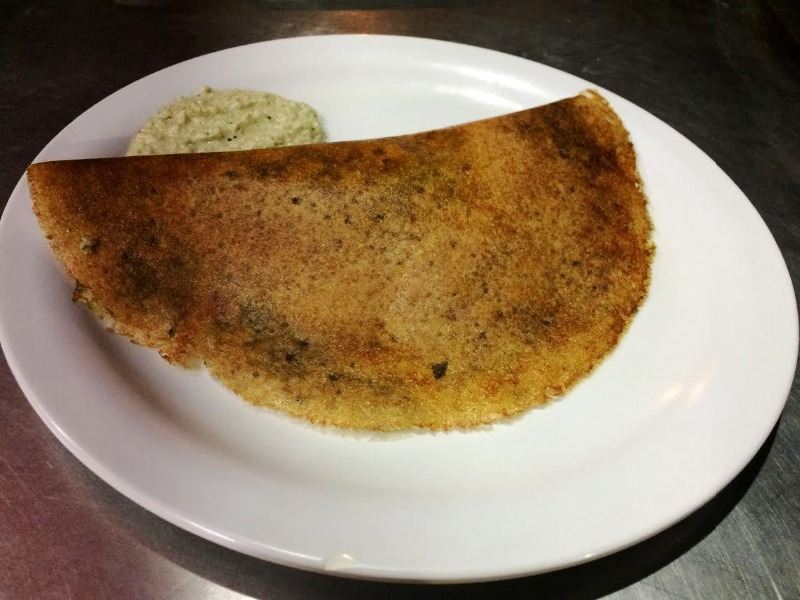dosa: (14, 85, 666, 438)
